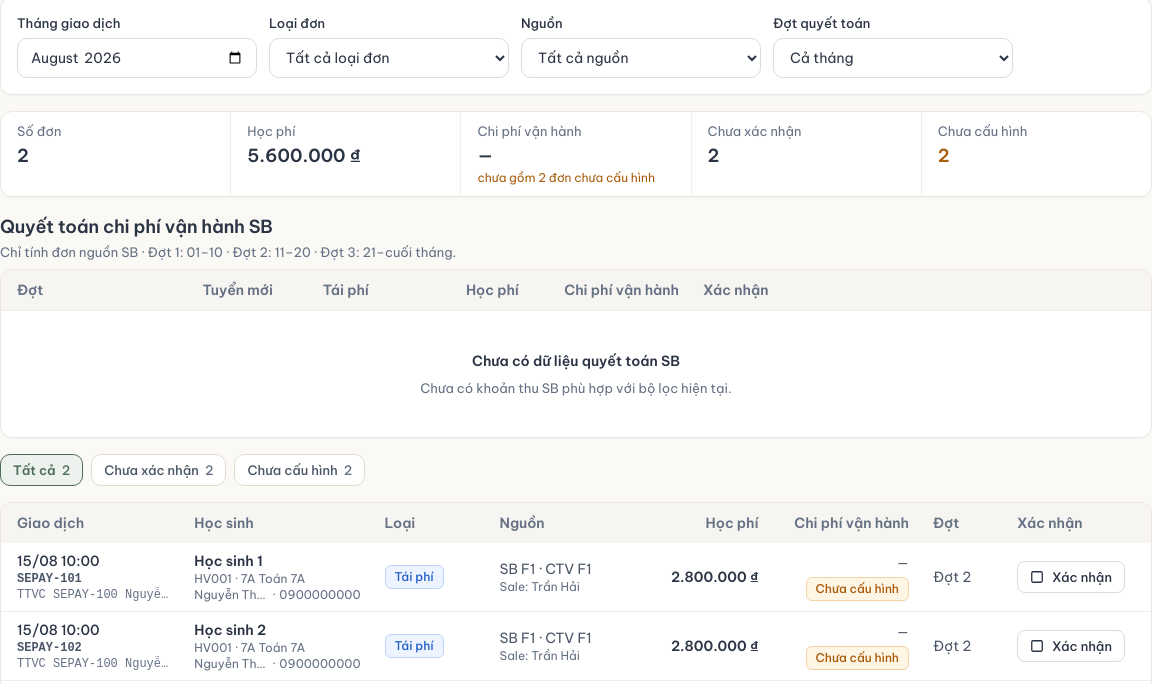
Test: Finance Orders list (step 14c) › shows a failed tick next to its row as well as in the single alert, and clears it on the next attempt
(page scrolled)
Click the button with aria-label "Xác nhận đơn SEPAY-102" at (1071,646), box x1=1017 y1=630 x2=1125 y2=662
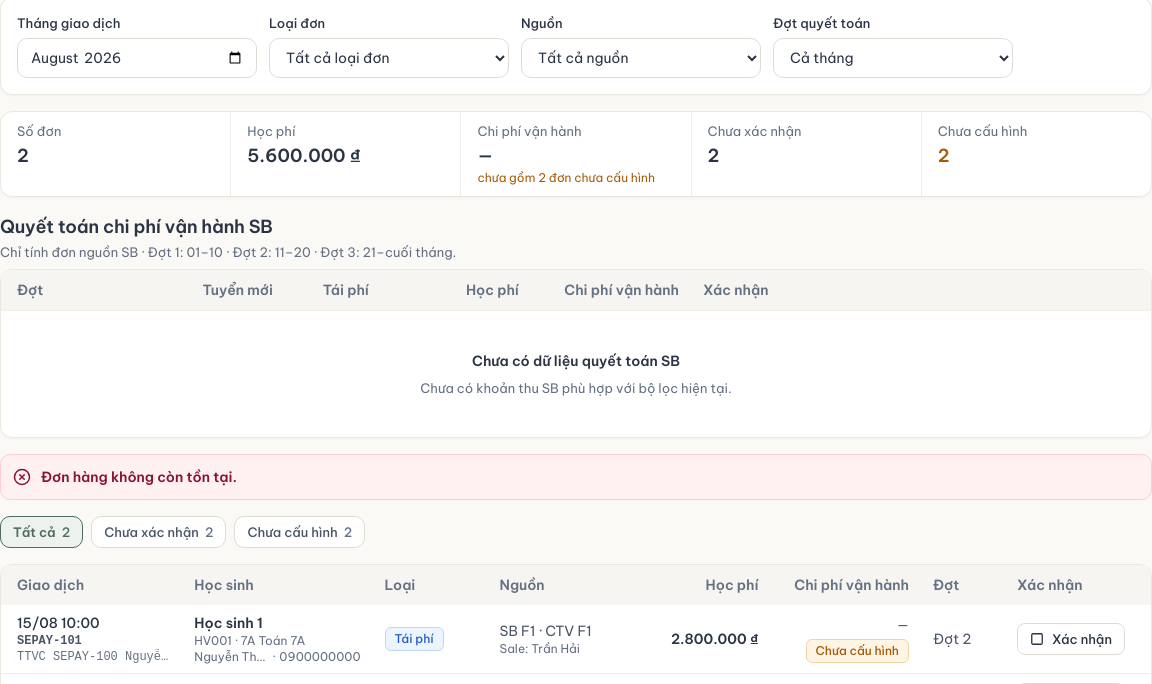
Expected: the message reads "Đơn hàng không còn tồn tại.", x1=41 y1=468 x2=237 y2=486
Expected: the number of messages is 1, x1=0 y1=454 x2=1151 y2=500
Expected: the text "Không lưu được" is shown 2 times
Click the button with aria-label "Xác nhận đơn SEPAY-101" at (1071,639), box x1=1017 y1=623 x2=1125 y2=655
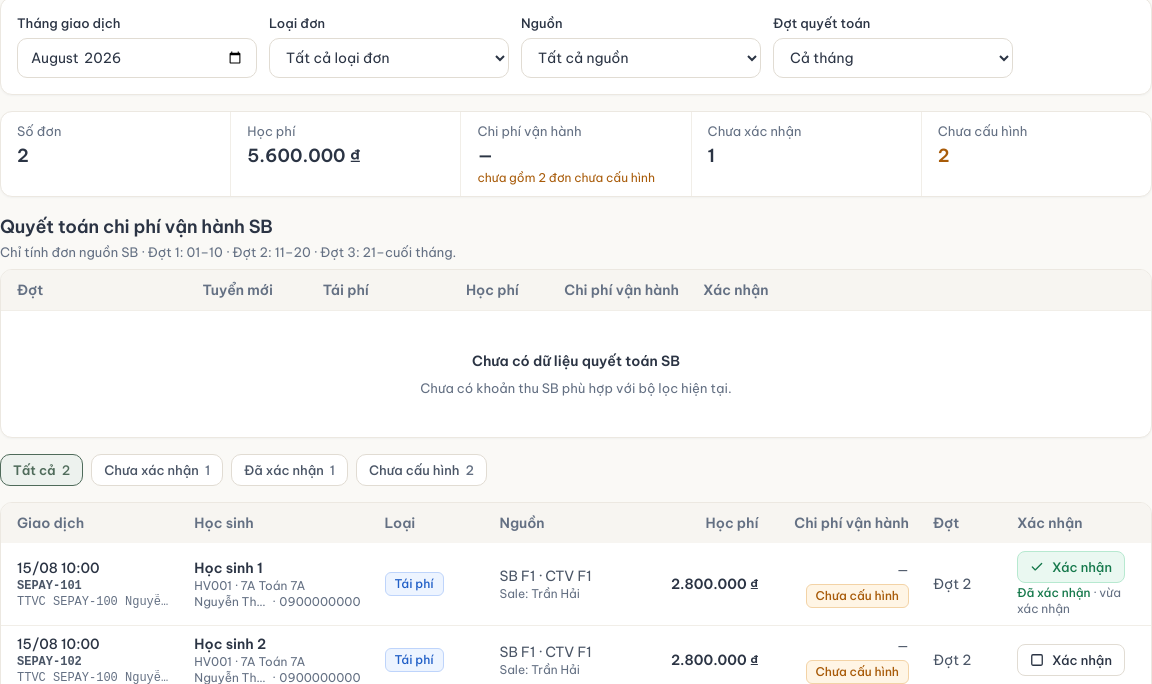
Expected: the text "Không lưu được" is not shown
Expected: the message "Đơn hàng không còn tồn tại." is gone
Expected: the number of buttons named "Bỏ xác nhận đơn SEPAY-101" is 2
